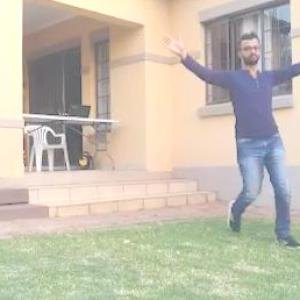takeoff: (166, 32, 299, 252)
